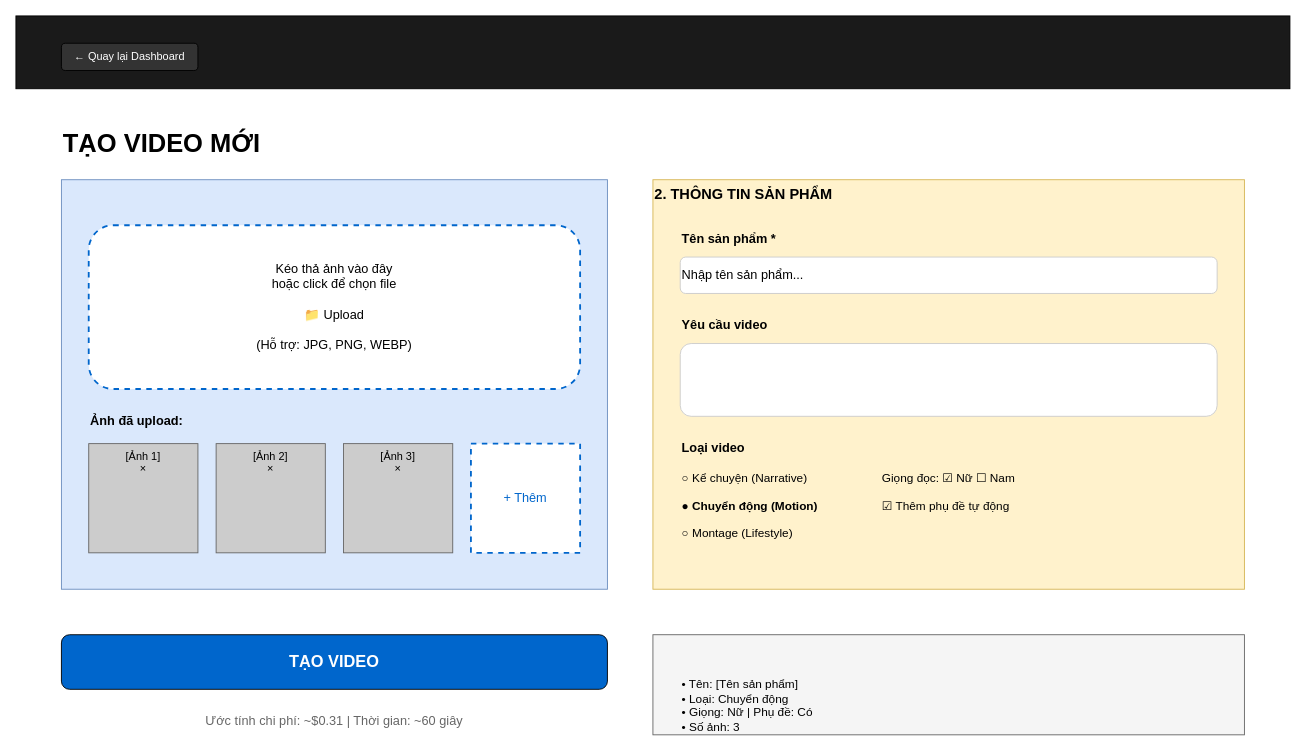
This 1306x751 diagram has some shape labels left out. Here are the shapes that lost their labels. From the top down, the box of each, then its label:
(15, 15, 1290, 89): TikTok Video Automation System
(61, 179, 607, 589): 1. UPLOAD ẢNH SẢN PHẨM
(679, 343, 1217, 416): Ví dụ: Giới thiệu giày thể thao năng động...
(652, 634, 1244, 735): PREVIEW CẤU HÌNH
